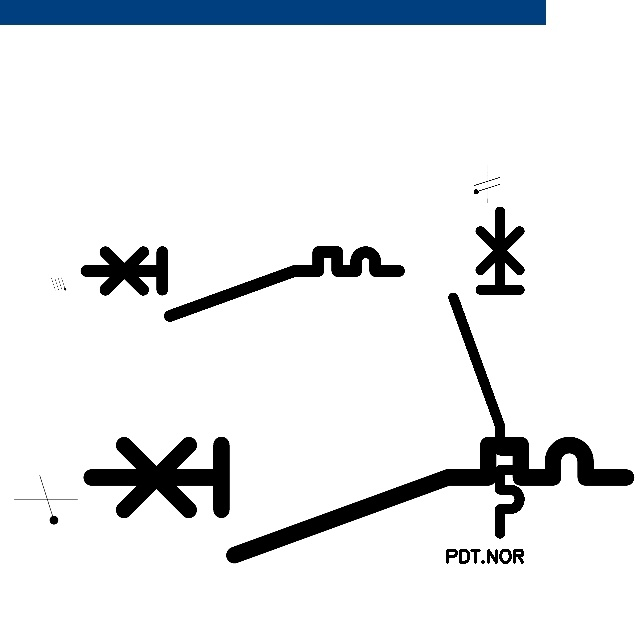interruptor_termomagnetico: (77, 431, 639, 568), (445, 203, 528, 542), (78, 244, 407, 324)
